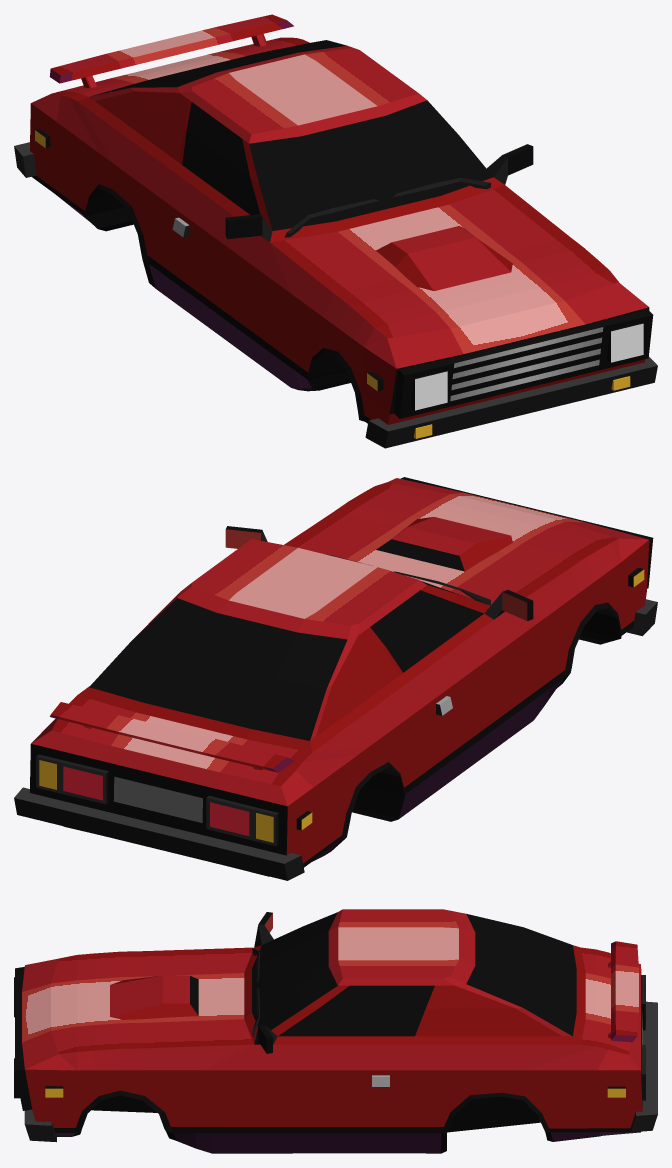
Rendered from SportCar.006.fbx.
3 renders of one model, top to bottom at view 1: azimuth 30°, elevation 25°; view 2: azimuth 150°, elevation 25°; view 3: azimuth 270°, elevation 25°, orthographic. The views are drawn at different scales.
Visible parts, largest first — view 1: SportCar.006; view 2: SportCar.006; view 3: SportCar.006.
Boxes of the visible parts, x1,y1,x2,y2 form: SportCar.006: (14, 14, 657, 448); SportCar.006: (14, 477, 657, 880); SportCar.006: (14, 909, 657, 1153).
Bounding box in the file's own units: 1.75 × 1.05 × 3.77.
